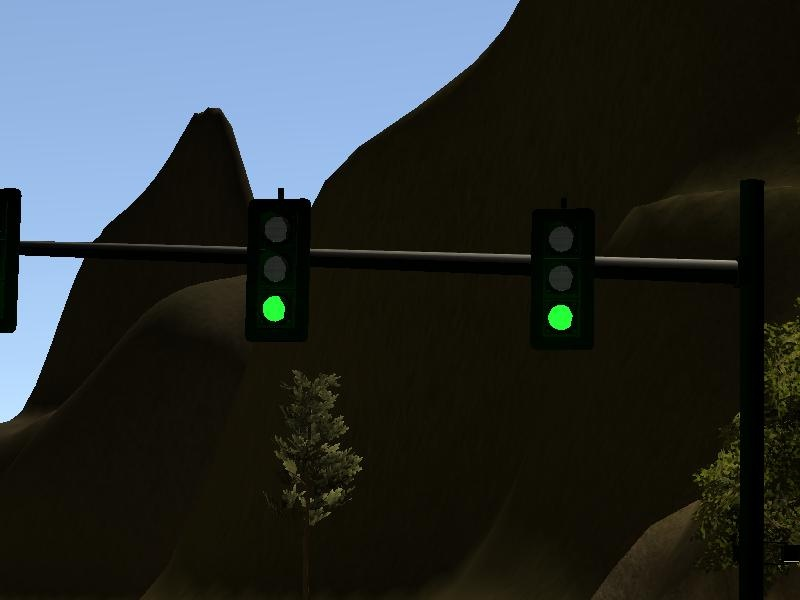GREEN: (247, 200, 309, 336), (532, 205, 593, 343)
